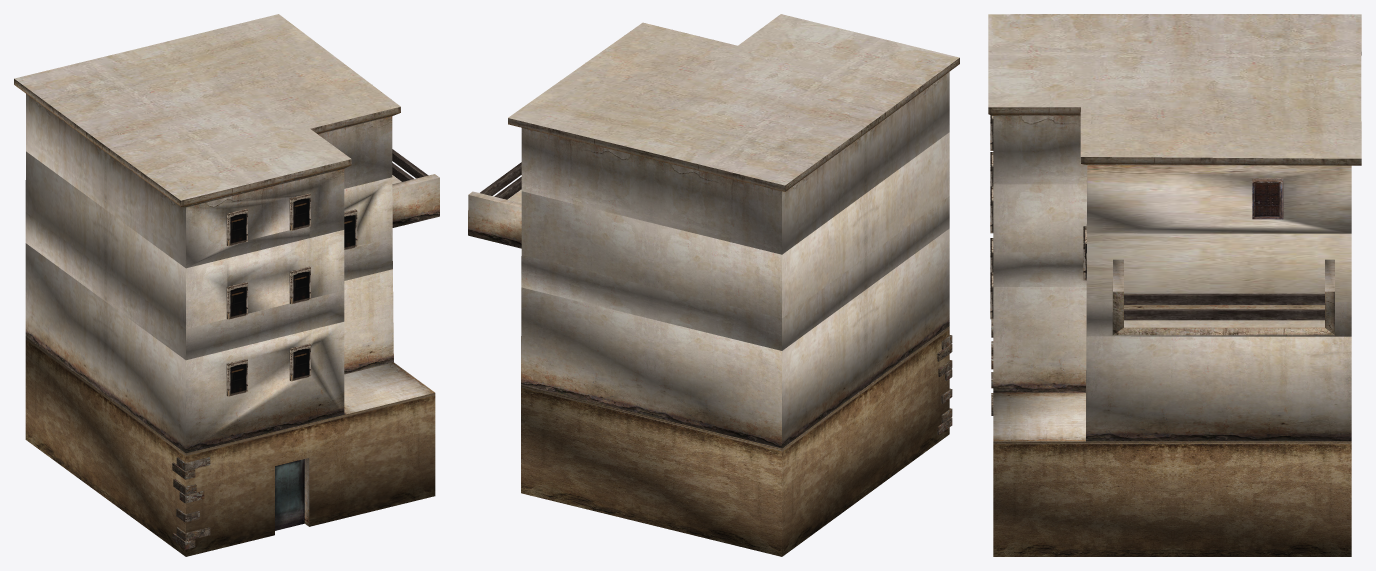
Rendered from BuildingG_Seperated.fbx.
The picture shows the model from 3 angles, left to right: view 1: azimuth 30°, elevation 25°; view 2: azimuth 150°, elevation 25°; view 3: azimuth 270°, elevation 25°; orthographic projection. The views are drawn at different scales.
Visible parts, largest first — view 1: BuildingG_Roof2, BuildingG_Wall1, BuildingG_Wall2, BuildingG_Wall3, BuildingG_Wall4, BuildingG_Roof1, BuildingG_Balcony, BuildingG_Door1, BuildingG_Window2, BuildingG_Window6, BuildingG_Window3, BuildingG_Window4 (+3 smaller); view 2: BuildingG_Wall1, BuildingG_Roof2, BuildingG_Wall2, BuildingG_Wall3, BuildingG_Wall4, BuildingG_Balcony; view 3: BuildingG_Roof2, BuildingG_Wall1, BuildingG_Wall2, BuildingG_Wall3, BuildingG_Wall4, BuildingG_Balcony, BuildingG_Roof1, BuildingG_BalconyFloor, BuildingG_Window8.
Boxes of the visible parts, box(x1,y1,x2,y2) form: BuildingG_Roof2: box(14, 14, 400, 207); BuildingG_Wall1: box(25, 336, 435, 556); BuildingG_Wall2: box(25, 243, 393, 453); BuildingG_Wall3: box(25, 151, 392, 360); BuildingG_Wall4: box(26, 94, 392, 268); BuildingG_Roof1: box(344, 362, 434, 414); BuildingG_Balcony: box(392, 149, 439, 227); BuildingG_Door1: box(275, 458, 309, 530); BuildingG_Window2: box(289, 343, 310, 381); BuildingG_Window6: box(289, 193, 310, 230); BuildingG_Window3: box(226, 282, 247, 319); BuildingG_Window4: box(289, 266, 310, 304); BuildingG_Wall1: box(521, 326, 952, 556); BuildingG_Roof2: box(508, 14, 959, 191); BuildingG_Wall2: box(521, 228, 949, 448); BuildingG_Wall3: box(521, 132, 949, 350); BuildingG_Wall4: box(521, 72, 949, 254); BuildingG_Balcony: box(468, 162, 521, 248); BuildingG_Roof2: box(988, 14, 1361, 165); BuildingG_Wall1: box(991, 319, 1351, 556); BuildingG_Wall2: box(993, 287, 1351, 441); BuildingG_Wall3: box(993, 184, 1351, 336); BuildingG_Wall4: box(993, 116, 1351, 233); BuildingG_Balcony: box(1112, 259, 1334, 334); BuildingG_Roof1: box(993, 391, 1085, 441); BuildingG_BalconyFloor: box(1113, 305, 1334, 335); BuildingG_Window8: box(1252, 178, 1283, 219).
Size of the model in its own units: 1260 by 1375 by 1156.
